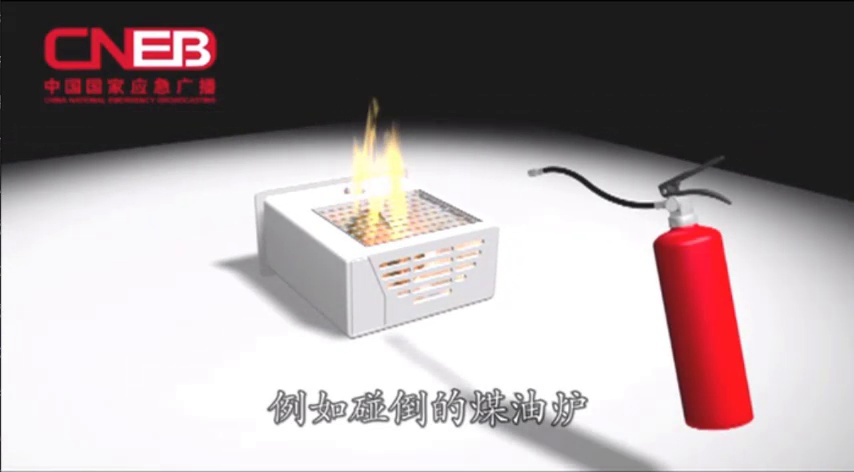fire: (344, 82, 416, 258)
